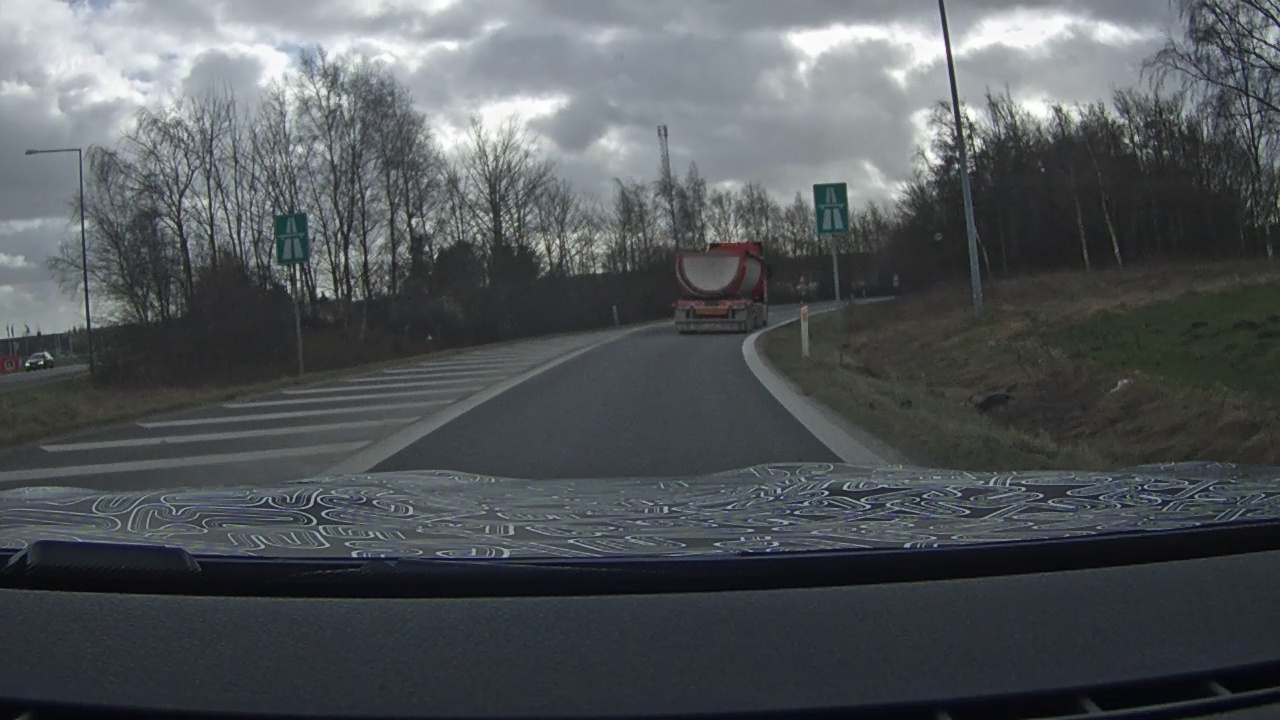Motorway_Begin: (812, 182, 850, 233), (274, 213, 310, 263)
